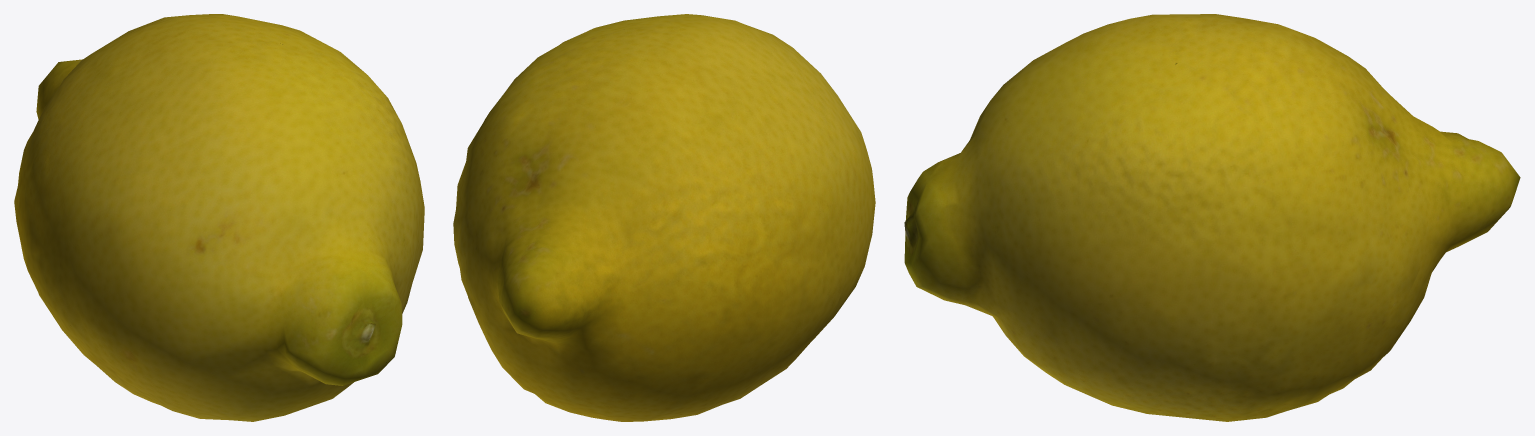
File: avalon lemon.glb
The picture shows the model from 3 angles, left to right: view 1: azimuth 30°, elevation 25°; view 2: azimuth 150°, elevation 25°; view 3: azimuth 270°, elevation 25°; orthographic projection. The views are drawn at different scales.
Visible parts, largest first — view 1: Object_2; view 2: Object_2; view 3: Object_2.
Part boxes in pixels (<box>): Object_2: <box>14,14,424,421</box>; Object_2: <box>453,14,875,421</box>; Object_2: <box>904,14,1520,421</box>.
Size of the model in its own units: 0.0576 by 0.0571 by 0.0871.
Materials: 1 (1 with a texture image).
